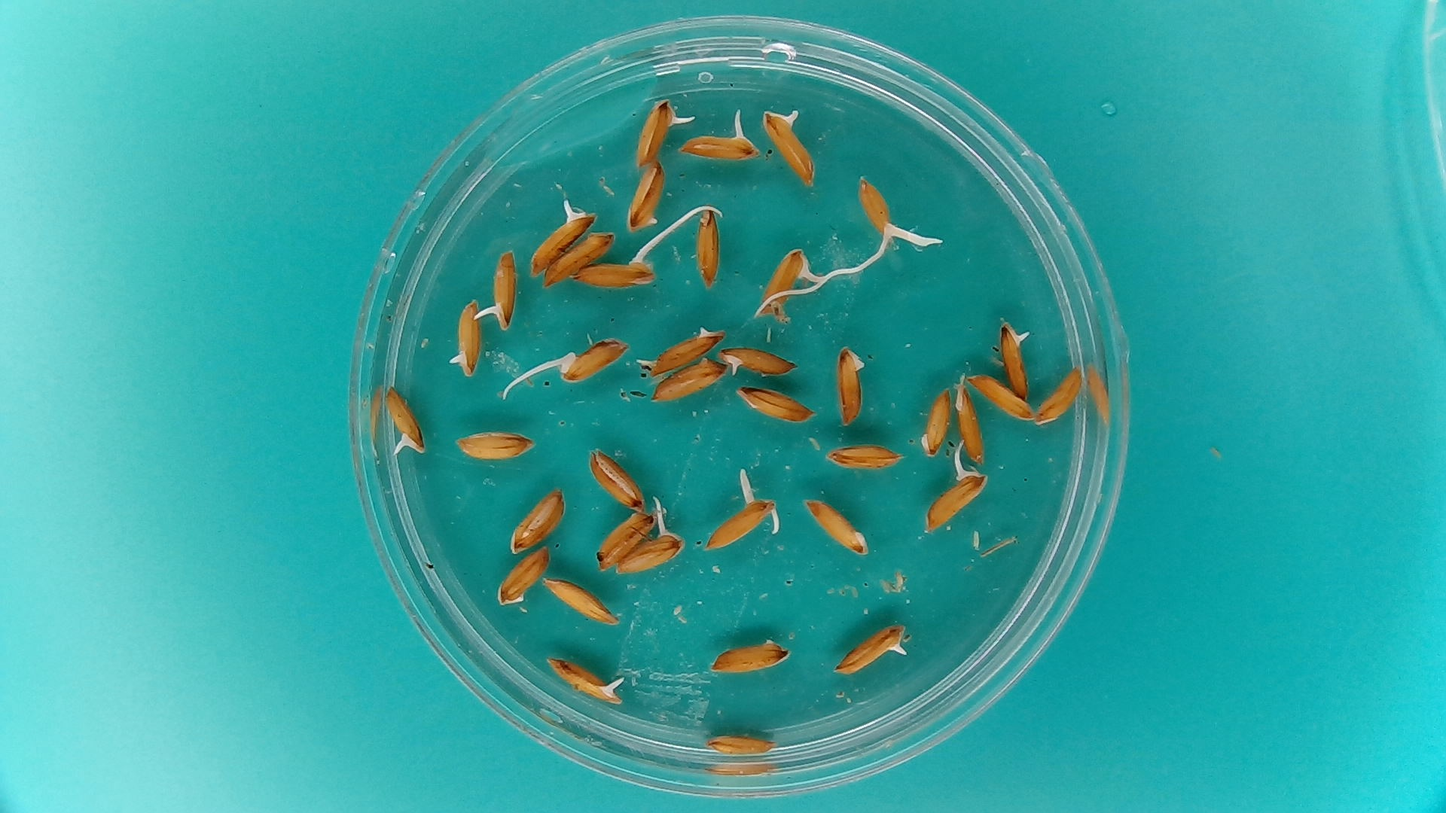no: (638, 321, 726, 378), (540, 227, 616, 288), (539, 574, 622, 628), (593, 504, 657, 570), (802, 495, 871, 556), (507, 485, 566, 556), (648, 355, 728, 403), (587, 447, 645, 511), (706, 634, 793, 676), (496, 543, 552, 607), (966, 372, 1035, 422), (952, 370, 986, 467), (734, 383, 816, 423), (1034, 363, 1084, 426), (832, 343, 869, 428), (453, 426, 538, 462), (624, 160, 665, 232), (693, 201, 724, 292), (916, 385, 952, 458), (825, 440, 905, 472), (700, 730, 779, 758)
yes: (527, 197, 596, 274), (760, 103, 819, 190), (920, 464, 988, 534), (613, 516, 690, 575), (831, 620, 913, 675), (700, 495, 777, 553), (543, 651, 626, 704), (756, 249, 819, 316), (633, 96, 691, 168), (551, 334, 629, 382), (474, 248, 518, 331), (857, 179, 901, 254), (574, 251, 660, 289), (447, 296, 485, 378), (996, 318, 1033, 401), (385, 384, 426, 458), (674, 127, 757, 163), (718, 343, 798, 379)
